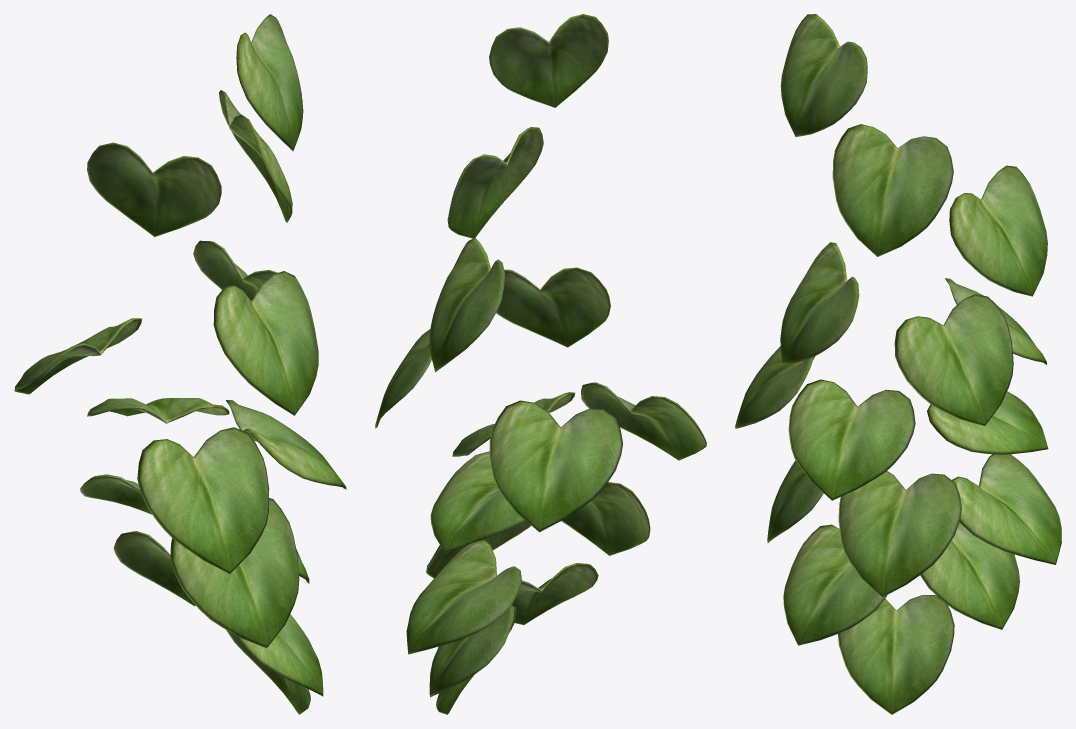
File: heart vines.glb
The picture shows the model from 3 angles, left to right: view 1: azimuth 30°, elevation 25°; view 2: azimuth 150°, elevation 25°; view 3: azimuth 270°, elevation 25°; orthographic projection. The views are drawn at different scales.
Parts seen in each view (by area): view 1: Sample 3_Pothos Leaf 3_0; view 2: Sample 3_Pothos Leaf 3_0; view 3: Sample 3_Pothos Leaf 3_0.
Part boxes in pixels (x1,y1,x2,y2): Sample 3_Pothos Leaf 3_0: (14, 14, 346, 714); Sample 3_Pothos Leaf 3_0: (375, 14, 706, 714); Sample 3_Pothos Leaf 3_0: (735, 14, 1061, 714).
Size of the model in its own units: 1.54 by 4.21 by 1.9.
Materials: 1 (1 with a texture image).
